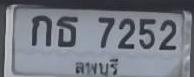2: (117, 17, 134, 48), (158, 19, 175, 49)
5: (138, 18, 155, 48)
7: (97, 16, 114, 47)
A01: (31, 14, 51, 45)
A24: (56, 15, 77, 46)
LRI: (71, 56, 121, 77)
